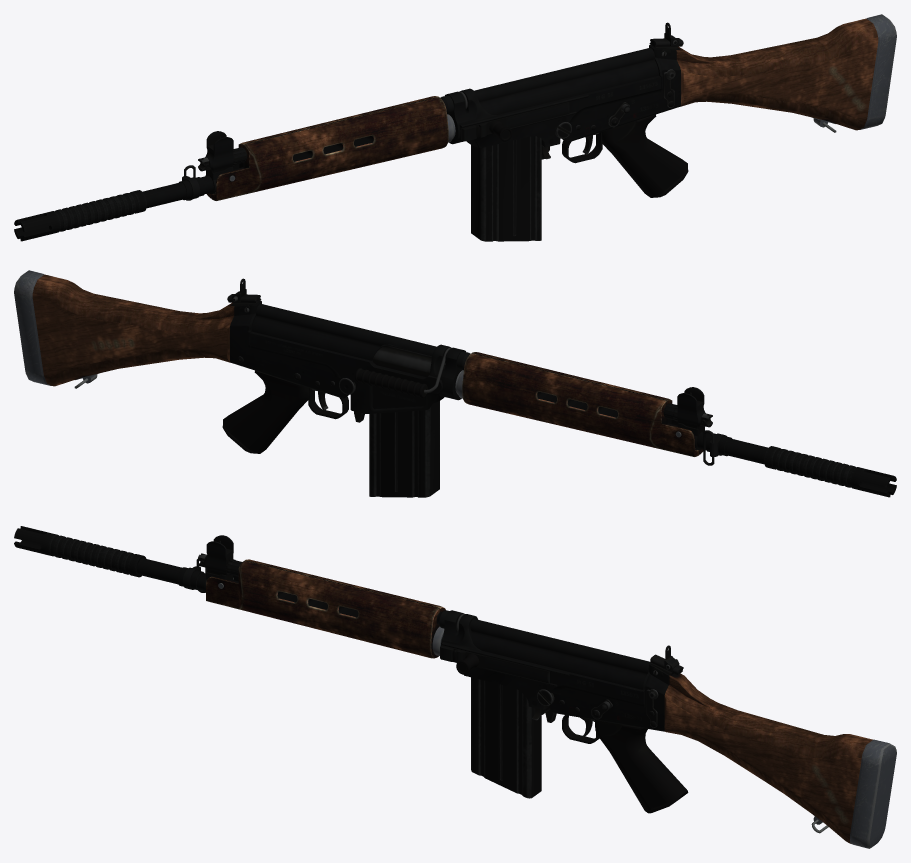
File: fn-fal.glb
The picture shows the model from 3 angles, top to bottom: view 1: azimuth 30°, elevation 25°; view 2: azimuth 150°, elevation 25°; view 3: azimuth 330°, elevation 25°; orthographic projection.
Parts seen in each view (by area): view 1: Cube.000, Cube.005, Cube.003, Cube.001, Cylinder; view 2: Cube.000, Cube.005, Cube.003, Cube.001, Cylinder; view 3: Cube.000, Cube.005, Cube.003, Cube.001, Cylinder.
Part boxes in pixels (x1,y1,x2,y2): Cube.000: (142, 22, 688, 208); Cube.005: (676, 14, 896, 132); Cube.003: (207, 96, 455, 200); Cube.001: (471, 136, 541, 241); Cylinder: (14, 190, 146, 241); Cube.000: (222, 278, 768, 465); Cube.005: (14, 270, 234, 388); Cube.003: (455, 352, 703, 456); Cube.001: (369, 365, 439, 497); Cylinder: (764, 446, 896, 497); Cube.000: (137, 535, 688, 813); Cube.005: (664, 673, 896, 848); Cube.003: (206, 559, 445, 658); Cube.001: (471, 677, 541, 798); Cylinder: (14, 526, 146, 577).
Bounding box in the file's own units: 2.09 × 0.4157 × 0.1676.
5 materials, 5 textured.
